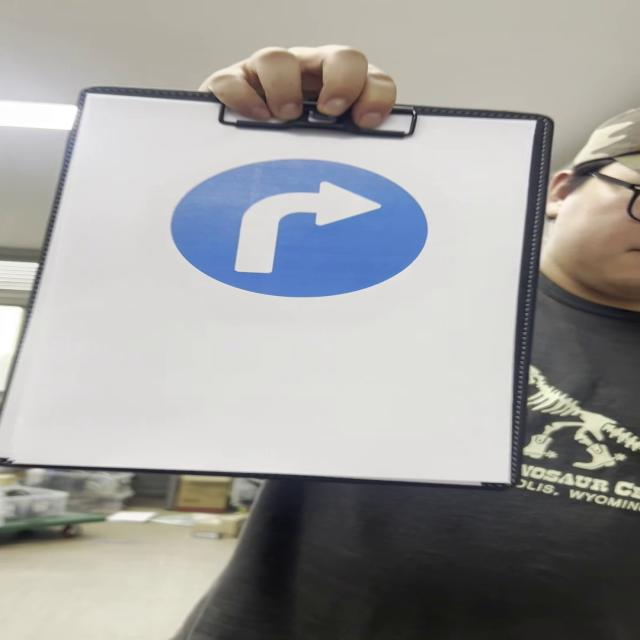right: (174, 157, 432, 298)
